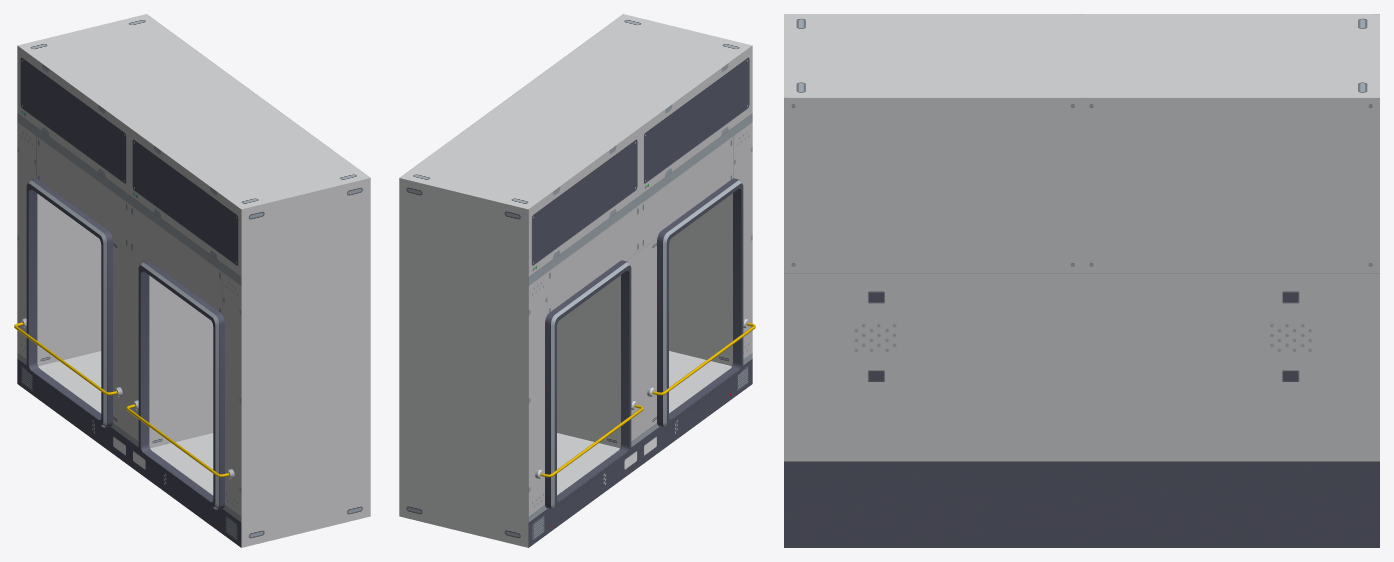
Rendered from Wall_Normal_Simple_07.FBX.
The picture shows the model from 3 angles, left to right: view 1: azimuth 30°, elevation 25°; view 2: azimuth 150°, elevation 25°; view 3: azimuth 270°, elevation 25°; orthographic projection. The views are drawn at different scales.
Visible parts, largest first — view 1: Wall_Normal_Simple_07, Fence; view 2: Wall_Normal_Simple_07, Fence; view 3: Wall_Normal_Simple_07.
Part boxes in pixels (x1,y1,x2,y2): Wall_Normal_Simple_07: (17, 14, 370, 547); Fence: (14, 318, 234, 478); Wall_Normal_Simple_07: (399, 14, 752, 547); Fence: (535, 318, 755, 478); Wall_Normal_Simple_07: (784, 14, 1379, 547).
Size of the model in its own units: 2.21 by 5 by 6.
Materials: 3 (3 with a texture image).
